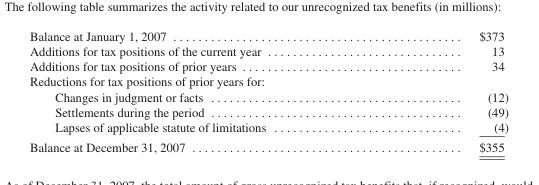table: (28, 28, 507, 153)
table column: (28, 28, 371, 153), (371, 28, 507, 153)
table projected row header: (28, 73, 507, 88)
table row: (28, 118, 507, 136), (28, 136, 507, 153), (28, 28, 507, 43), (28, 43, 507, 58), (28, 58, 507, 73), (28, 73, 507, 88), (28, 88, 507, 103), (28, 103, 507, 118)
